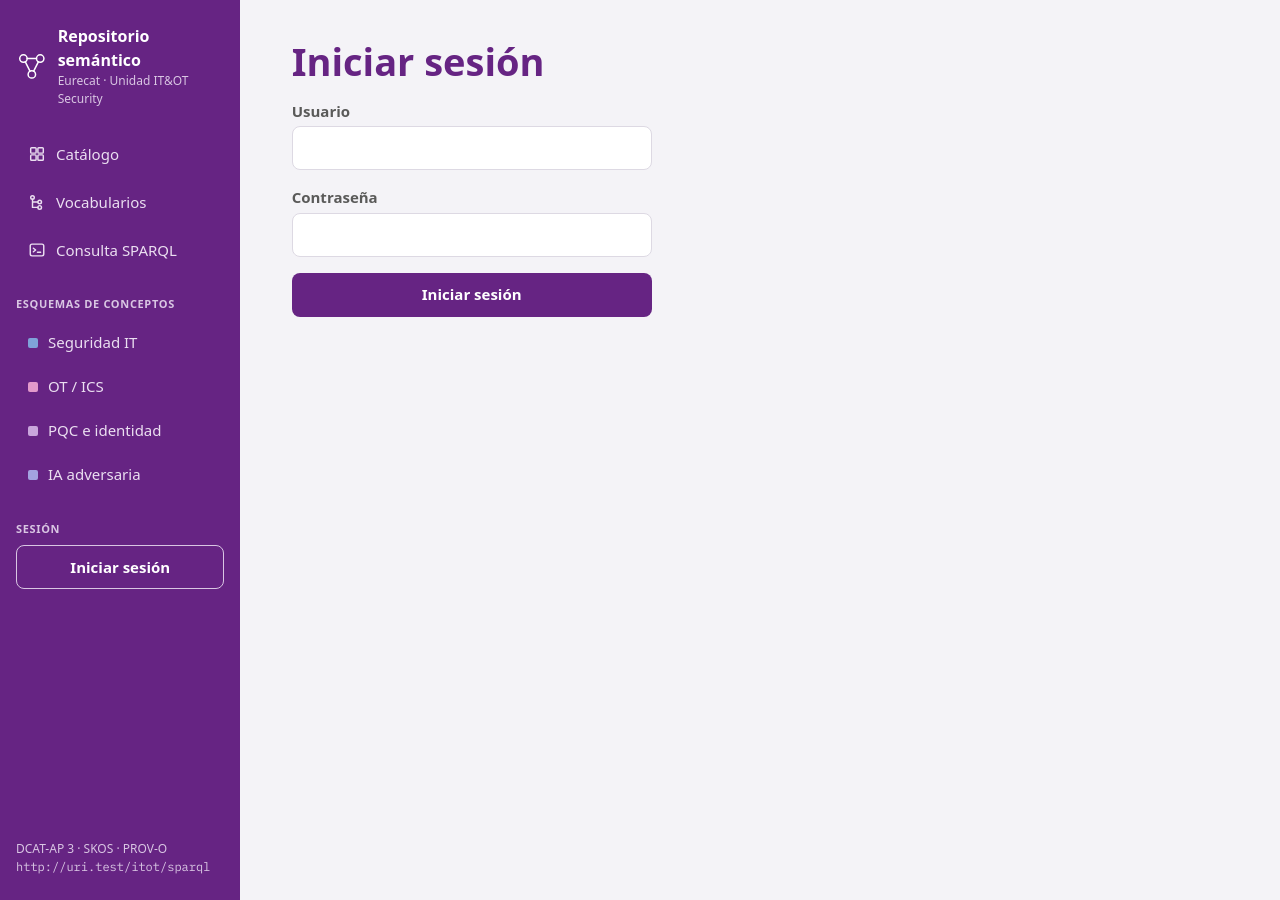
Test: Navegador SKOS · CRUD del esquema (decisión 50) › sin rol de edición (miembro) no se ven las acciones
This screenshot has width=1280, height=900.
In the field labelled "Usuario": (472, 148) top-left (292, 126), bottom-right (652, 170), type "usuario-prueba"
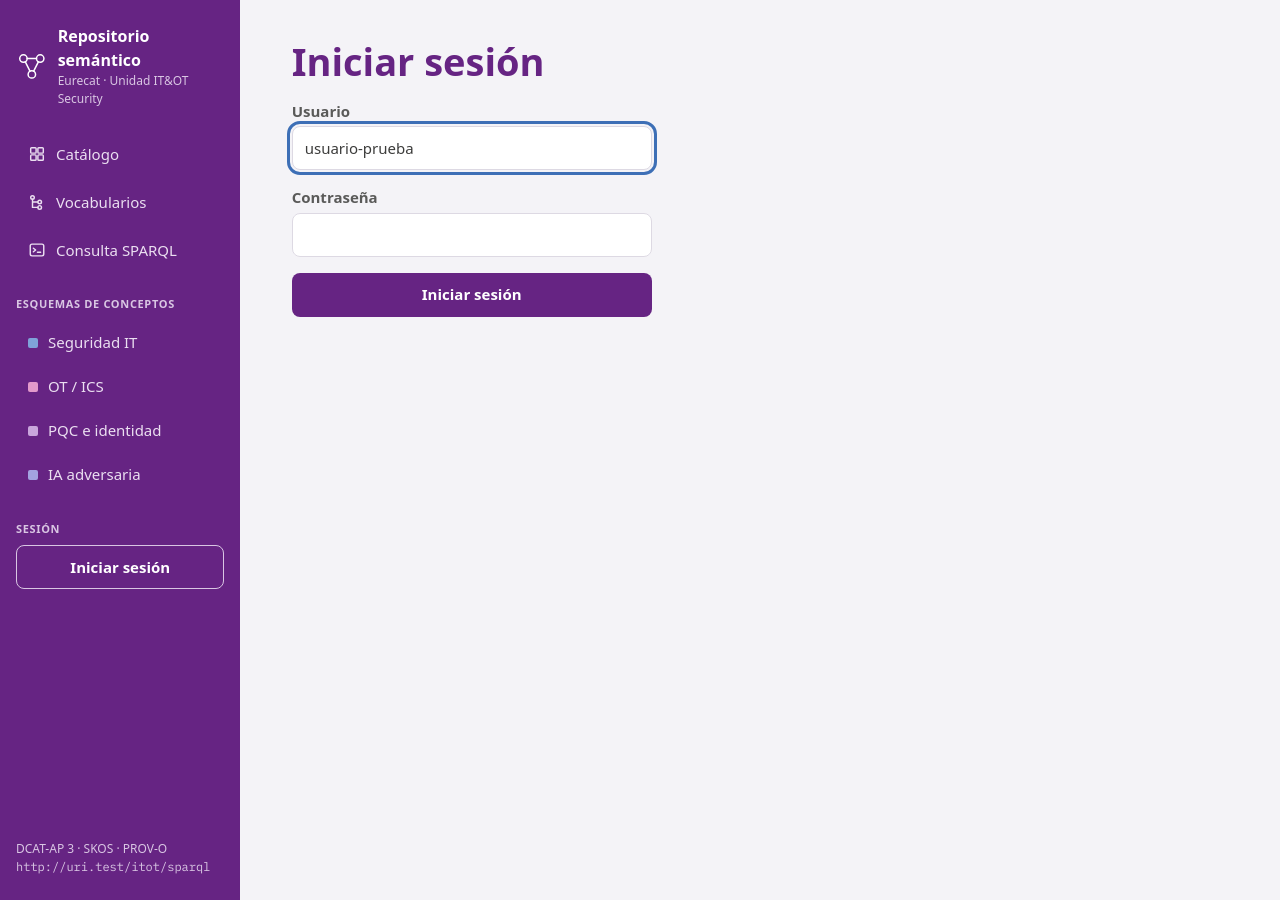
In the password field labelled "Contraseña": (472, 235) top-left (292, 213), bottom-right (652, 257), type "contrasena-prueba"
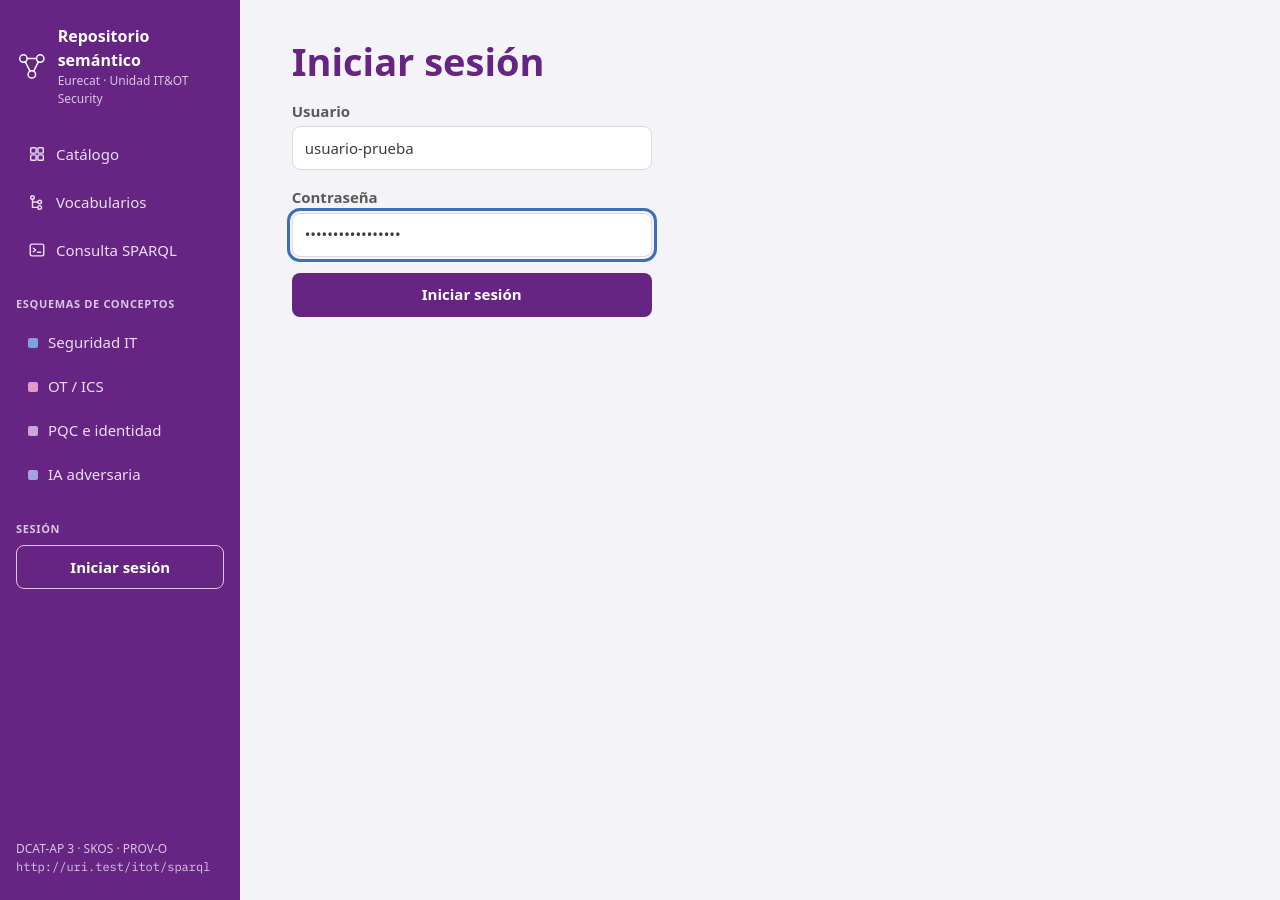
Click the button "Iniciar sesión": (472, 295) top-left (292, 273), bottom-right (652, 317)
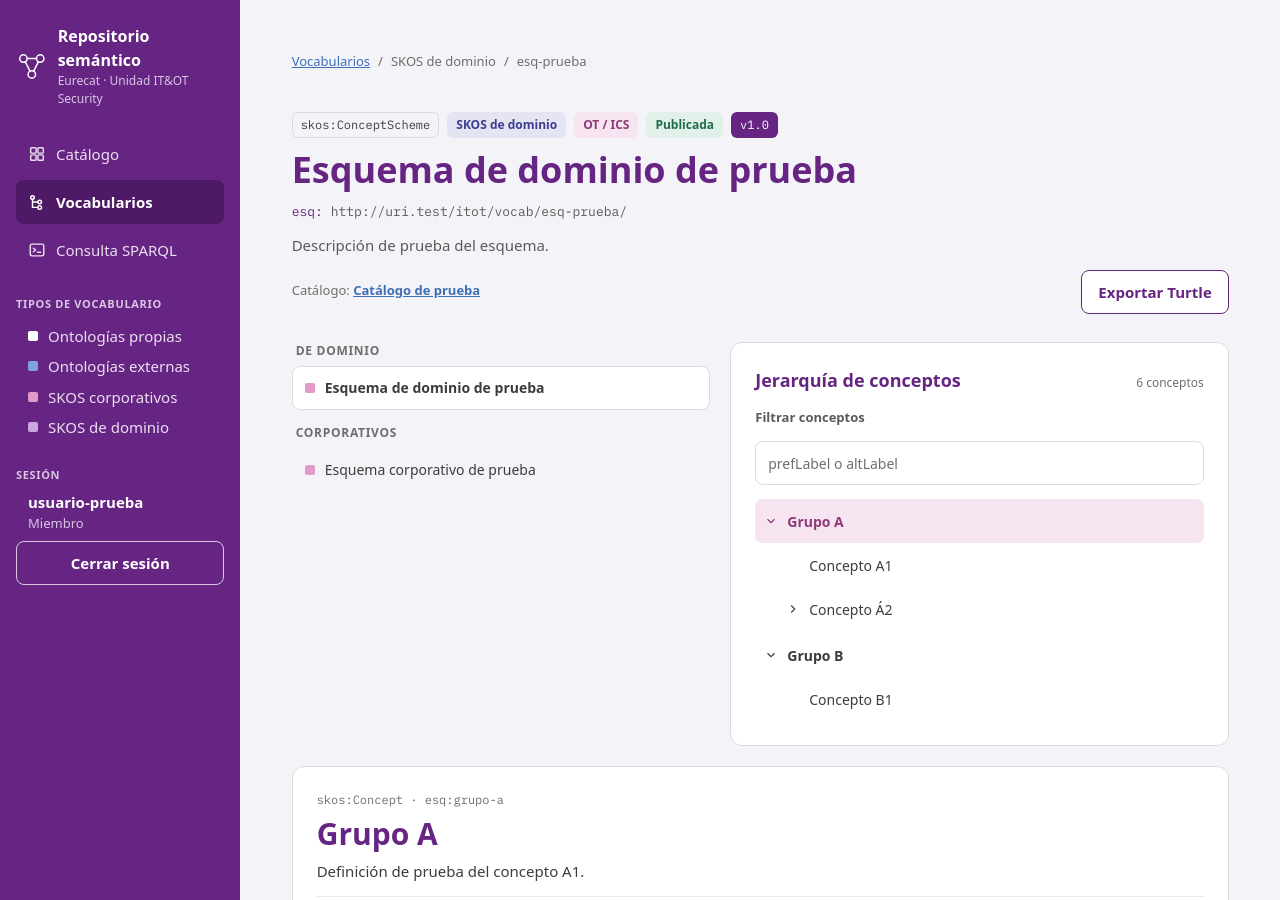
Now the button "Cerrar sesión" is shown, box top-left (16, 541), bottom-right (224, 585)
Now the heading "Esquema de dominio de prueba" is shown, box top-left (292, 150), bottom-right (857, 190)
